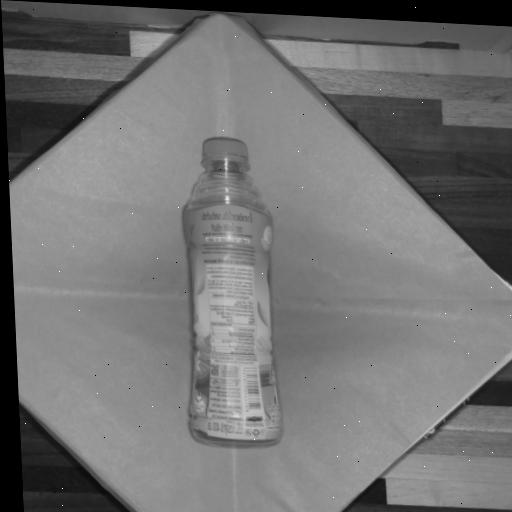bottle: (162, 123, 311, 472)
